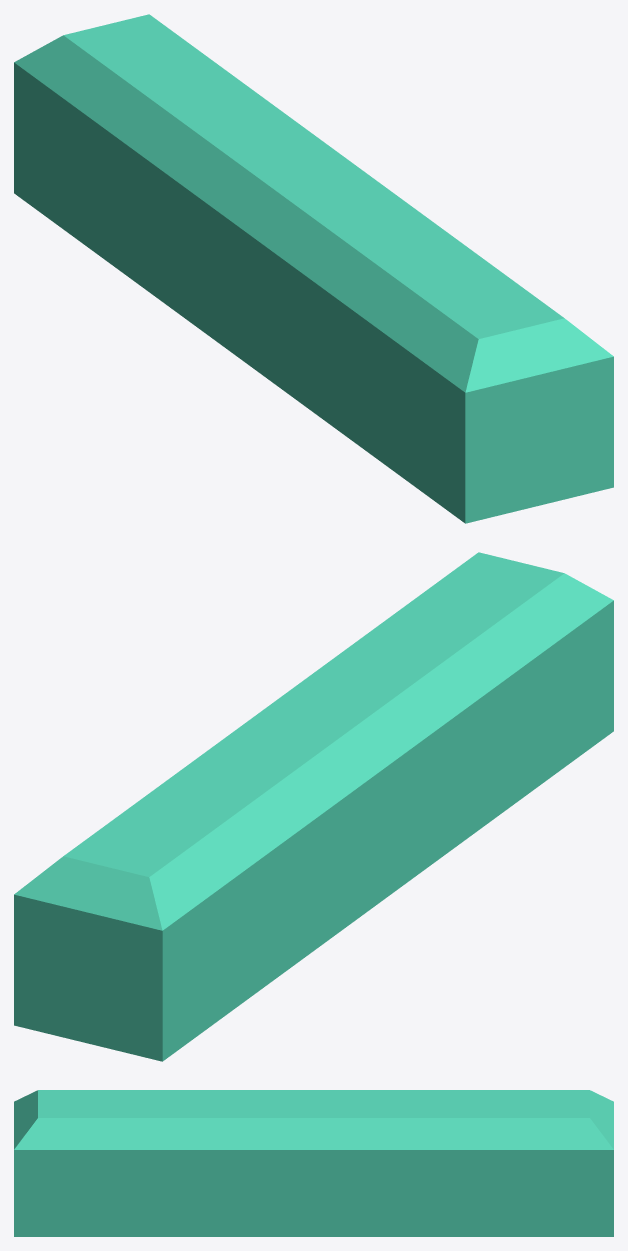
File: hedge.glb
The picture shows the model from 3 angles, top to bottom: view 1: azimuth 30°, elevation 25°; view 2: azimuth 150°, elevation 25°; view 3: azimuth 270°, elevation 25°; orthographic projection. The views are drawn at different scales.
Visible parts, largest first — view 1: hedge(Clone); view 2: hedge(Clone); view 3: hedge(Clone).
Boxes of the visible parts, <box> form: hedge(Clone): <box>14,14,613,523</box>; hedge(Clone): <box>14,552,613,1061</box>; hedge(Clone): <box>14,1090,613,1236</box>.
Bounding box in the file's own units: 0.19 × 0.2 × 1.
